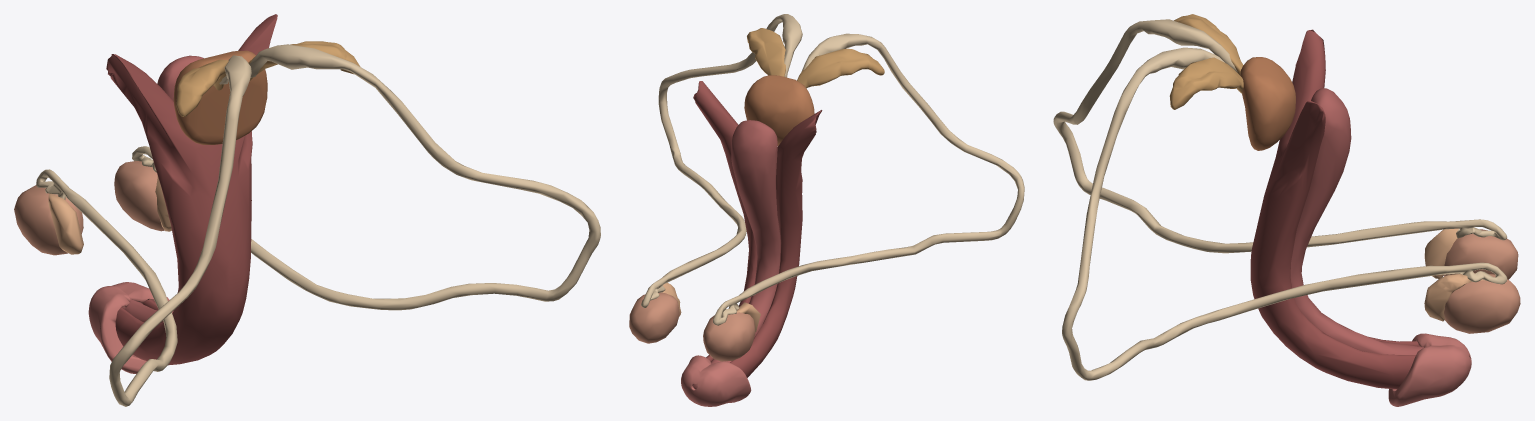
The model's file is male_reproductive_bodyparts3d_v4.glb.
3 views of the same model, side by side, from view 1: azimuth 30°, elevation 25°; view 2: azimuth 150°, elevation 25°; view 3: azimuth 270°, elevation 25° (orthographic). The views are drawn at different scales.
Parts seen in each view (by area): view 1: BodyParts3D_corpus_cavernosum_FJ3132, BodyParts3D_deferent_duct_left_FJ3135, BodyParts3D_deferent_duct_right_FJ3140, BodyParts3D_prostate_FJ3139, BodyParts3D_glans_penis_FJ3134, BodyParts3D_testis_left_FJ3138, BodyParts3D_testis_right_FJ3142, BodyParts3D_seminal_vesicle_right_FJ3143, BodyParts3D_epididymis_right_FJ3141, BodyParts3D_corpus_spongiosum_FJ3133, BodyParts3D_seminal_vesicle_left_FJ3137; view 2: BodyParts3D_corpus_cavernosum_FJ3132, BodyParts3D_deferent_duct_right_FJ3140, BodyParts3D_corpus_spongiosum_FJ3133, BodyParts3D_deferent_duct_left_FJ3135, BodyParts3D_prostate_FJ3139, BodyParts3D_glans_penis_FJ3134, BodyParts3D_testis_right_FJ3142, BodyParts3D_testis_left_FJ3138, BodyParts3D_seminal_vesicle_right_FJ3143, BodyParts3D_seminal_vesicle_left_FJ3137; view 3: BodyParts3D_corpus_cavernosum_FJ3132, BodyParts3D_deferent_duct_left_FJ3135, BodyParts3D_deferent_duct_right_FJ3140, BodyParts3D_corpus_spongiosum_FJ3133, BodyParts3D_prostate_FJ3139, BodyParts3D_glans_penis_FJ3134, BodyParts3D_testis_left_FJ3138, BodyParts3D_testis_right_FJ3142, BodyParts3D_seminal_vesicle_left_FJ3137, BodyParts3D_epididymis_left_FJ3136, BodyParts3D_seminal_vesicle_right_FJ3143, BodyParts3D_epididymis_right_FJ3141.
Part boxes in pixels (bbox=[...]): BodyParts3D_corpus_cavernosum_FJ3132: bbox=[106, 14, 277, 365]; BodyParts3D_deferent_duct_left_FJ3135: bbox=[132, 44, 600, 310]; BodyParts3D_deferent_duct_right_FJ3140: bbox=[36, 55, 251, 406]; BodyParts3D_prostate_FJ3139: bbox=[173, 50, 267, 144]; BodyParts3D_glans_penis_FJ3134: bbox=[88, 282, 173, 373]; BodyParts3D_testis_left_FJ3138: bbox=[114, 161, 164, 231]; BodyParts3D_testis_right_FJ3142: bbox=[14, 185, 83, 255]; BodyParts3D_seminal_vesicle_right_FJ3143: bbox=[176, 59, 228, 116]; BodyParts3D_epididymis_right_FJ3141: bbox=[48, 193, 83, 254]; BodyParts3D_corpus_spongiosum_FJ3133: bbox=[122, 55, 203, 322]; BodyParts3D_seminal_vesicle_left_FJ3137: bbox=[248, 41, 360, 80]; BodyParts3D_corpus_cavernosum_FJ3132: bbox=[693, 81, 822, 377]; BodyParts3D_deferent_duct_right_FJ3140: bbox=[713, 33, 1024, 325]; BodyParts3D_corpus_spongiosum_FJ3133: bbox=[693, 120, 780, 389]; BodyParts3D_deferent_duct_left_FJ3135: bbox=[641, 14, 802, 307]; BodyParts3D_prostate_FJ3139: bbox=[744, 75, 814, 145]; BodyParts3D_glans_penis_FJ3134: bbox=[681, 355, 751, 406]; BodyParts3D_testis_right_FJ3142: bbox=[703, 312, 755, 361]; BodyParts3D_testis_left_FJ3138: bbox=[629, 292, 679, 343]; BodyParts3D_seminal_vesicle_right_FJ3143: bbox=[797, 48, 884, 88]; BodyParts3D_seminal_vesicle_left_FJ3137: bbox=[747, 28, 785, 76]; BodyParts3D_corpus_cavernosum_FJ3132: bbox=[1250, 29, 1419, 389]; BodyParts3D_deferent_duct_left_FJ3135: bbox=[1062, 47, 1507, 380]; BodyParts3D_deferent_duct_right_FJ3140: bbox=[1053, 19, 1507, 253]; BodyParts3D_corpus_spongiosum_FJ3133: bbox=[1290, 88, 1423, 354]; BodyParts3D_prostate_FJ3139: bbox=[1240, 57, 1295, 150]; BodyParts3D_glans_penis_FJ3134: bbox=[1388, 333, 1471, 406]; BodyParts3D_testis_left_FJ3138: bbox=[1444, 273, 1520, 333]; BodyParts3D_testis_right_FJ3142: bbox=[1444, 229, 1518, 279]; BodyParts3D_seminal_vesicle_left_FJ3137: bbox=[1169, 57, 1243, 109]; BodyParts3D_epididymis_left_FJ3136: bbox=[1424, 273, 1484, 321]; BodyParts3D_seminal_vesicle_right_FJ3143: bbox=[1174, 14, 1243, 75]; BodyParts3D_epididymis_right_FJ3141: bbox=[1424, 228, 1458, 278].
Bounding box in the file's own units: 187 × 148 × 171.
